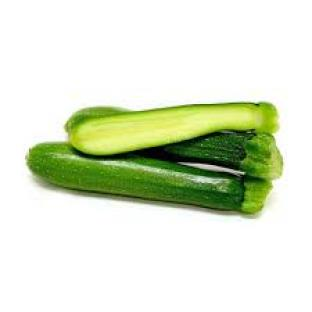Zucchini: (27, 143, 271, 213), (67, 103, 278, 155), (141, 132, 282, 178)
